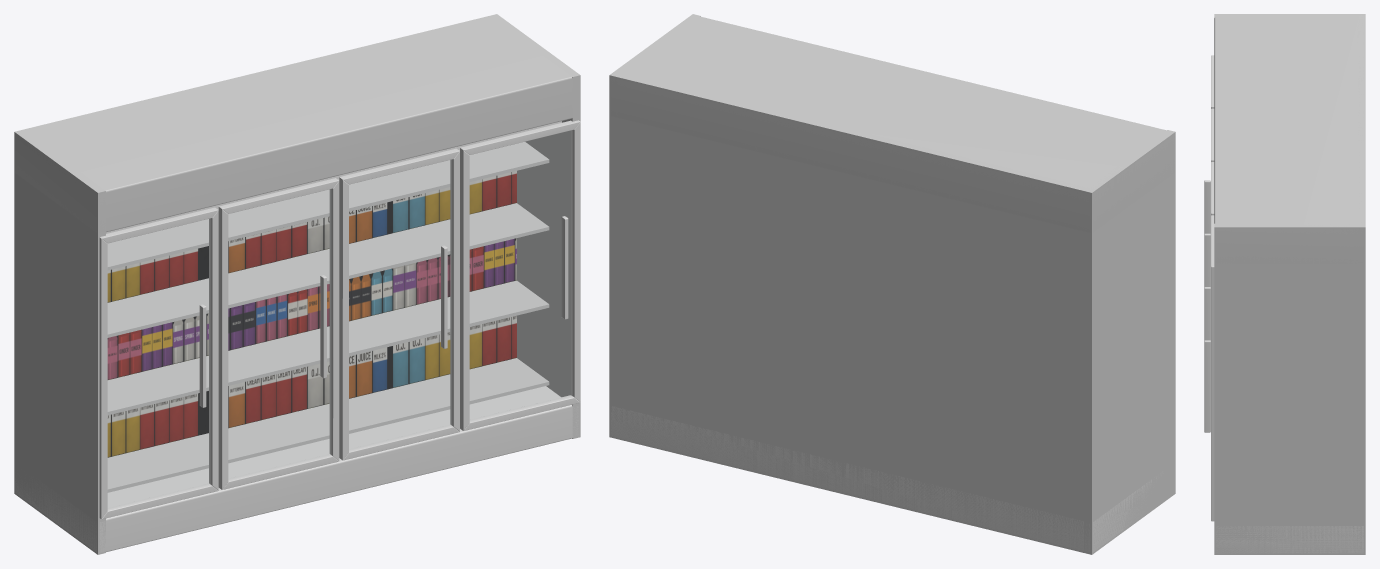
The model's file is SM_Cooler.fbx.
3 views of the same model, side by side, from view 1: azimuth 30°, elevation 25°; view 2: azimuth 150°, elevation 25°; view 3: azimuth 270°, elevation 25° (orthographic). The views are drawn at different scales.
Parts seen in each view (by area): view 1: SM_Cooler_1; view 2: SM_Cooler_1; view 3: SM_Cooler_1.
Part boxes in pixels (x1,y1,x2,y2): SM_Cooler_1: (14,14,580,554); SM_Cooler_1: (609,14,1175,554); SM_Cooler_1: (1204,14,1365,554).
Size of the model in its own units: 300 by 215 by 96.
